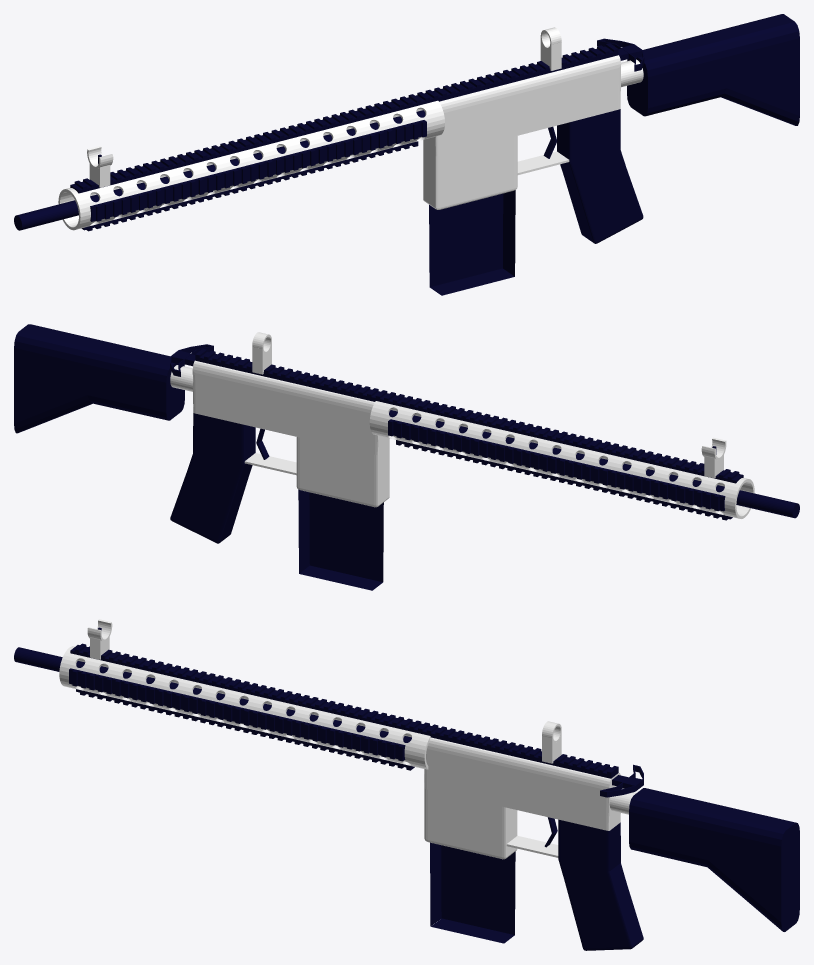
Rendered from stoner0009.obj.
3 views of the same model, one above another, from view 1: azimuth 30°, elevation 25°; view 2: azimuth 150°, elevation 25°; view 3: azimuth 330°, elevation 25° (orthographic). The views are drawn at different scales.
Visible parts, largest first — view 1: shoulderStock, upperReceiver, rearPistolGrip, handGuard, mag, picatinyRail, picatinyRailLeft, magWell, barrel, picatinyRailBottom, lowerTriggerGuard, handle; view 2: shoulderStock, upperReceiver, handGuard, rearPistolGrip, mag, picatinyRail, picatinyRailRight, magWell, barrel, picatinyRailBottom, lowerTriggerGuard, handle; view 3: shoulderStock, upperReceiver, rearPistolGrip, mag, handGuard, picatinyRail, picatinyRailLeft, magWell, picatinyRailBottom, barrel, lowerTriggerGuard, handle.
Boxes of the visible parts, x1,y1,x2,y2 form: shoulderStock: (627, 14, 799, 125); upperReceiver: (423, 55, 621, 156); rearPistolGrip: (557, 109, 643, 243); handGuard: (58, 100, 444, 230); mag: (429, 190, 515, 295); picatinyRail: (70, 43, 618, 193); picatinyRailLeft: (90, 120, 426, 221); magWell: (423, 136, 517, 209); barrel: (14, 110, 425, 230); picatinyRailBottom: (81, 141, 418, 231); lowerTriggerGuard: (517, 151, 569, 174); handle: (597, 38, 644, 71); shoulderStock: (14, 324, 184, 433); upperReceiver: (192, 360, 389, 455); handGuard: (369, 401, 754, 518); rearPistolGrip: (170, 413, 255, 543); mag: (298, 489, 383, 590); picatinyRail: (195, 348, 743, 483); picatinyRailRight: (388, 419, 725, 511); magWell: (296, 437, 389, 507); barrel: (389, 410, 799, 518); picatinyRailBottom: (396, 440, 732, 520); lowerTriggerGuard: (244, 453, 296, 475); handle: (170, 344, 213, 376); shoulderStock: (629, 788, 799, 931); upperReceiver: (424, 737, 620, 830); rearPistolGrip: (558, 819, 643, 950); mag: (430, 842, 515, 943); handGuard: (59, 646, 430, 769); picatinyRail: (70, 643, 618, 778); picatinyRailLeft: (69, 668, 405, 761); magWell: (424, 788, 517, 859); picatinyRailBottom: (76, 689, 414, 770); barrel: (14, 647, 411, 742); lowerTriggerGuard: (506, 835, 558, 857); handle: (600, 764, 643, 797).
Bounding box in the file's own units: 9.01 × 2.55 × 0.7672.
